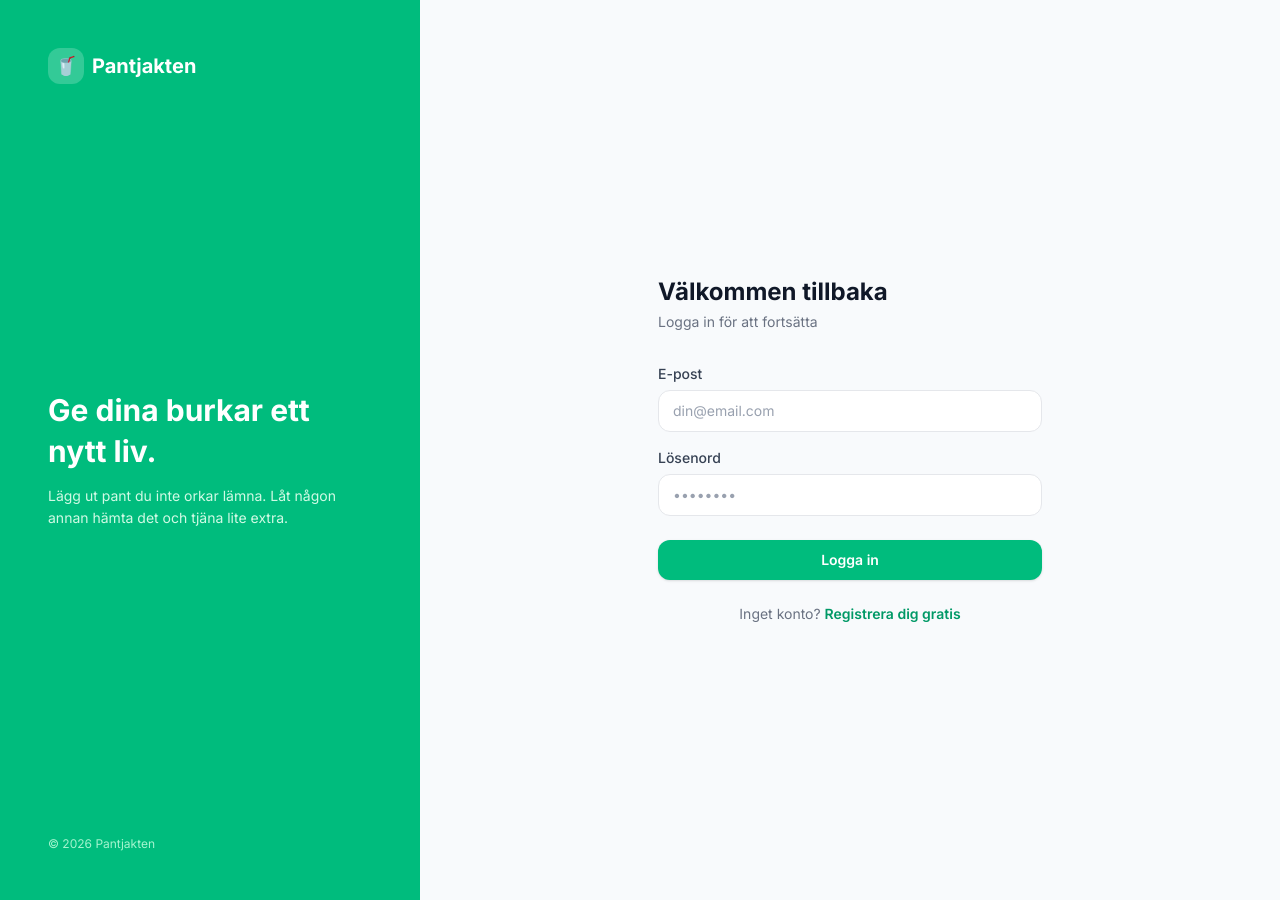
Test: LoginPage › shows a password validation error for short passwords
In the field with placeholder "din@email.com": (850, 411) [658, 390, 1042, 432], type "test@example.com"
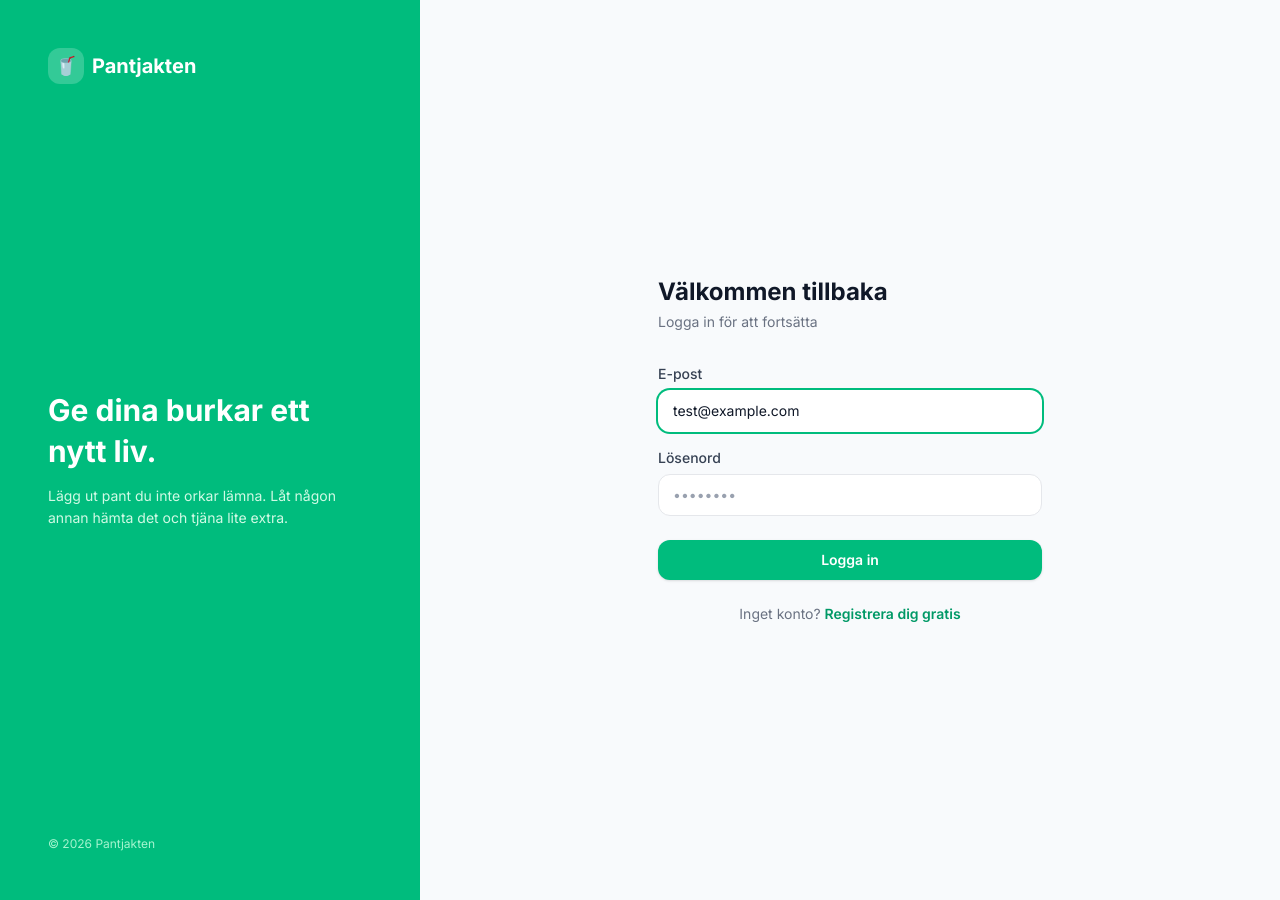
In the password field with placeholder "••••••••": (850, 495) [658, 474, 1042, 516], type "123"
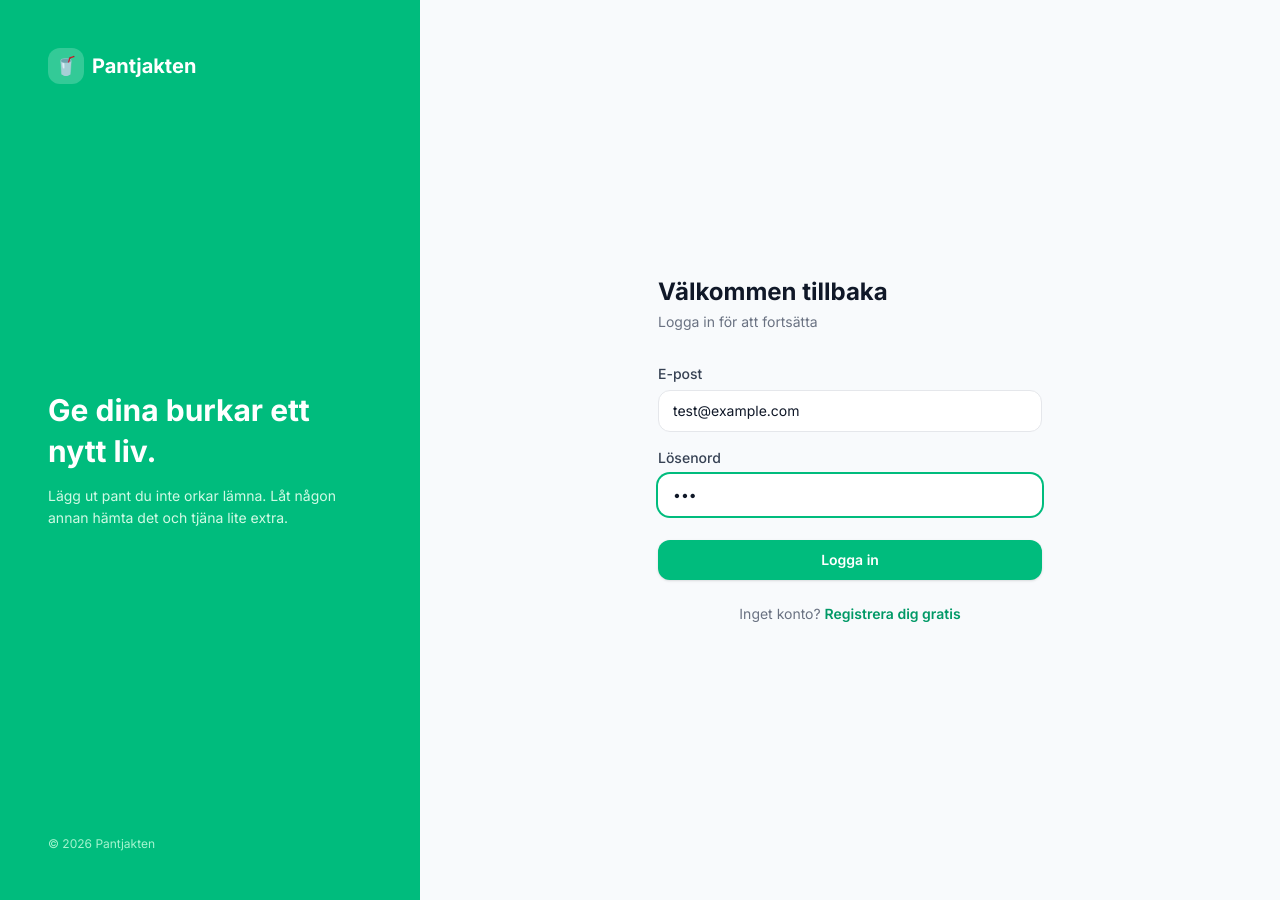
Click the button "Logga in": (850, 560) [658, 540, 1042, 580]
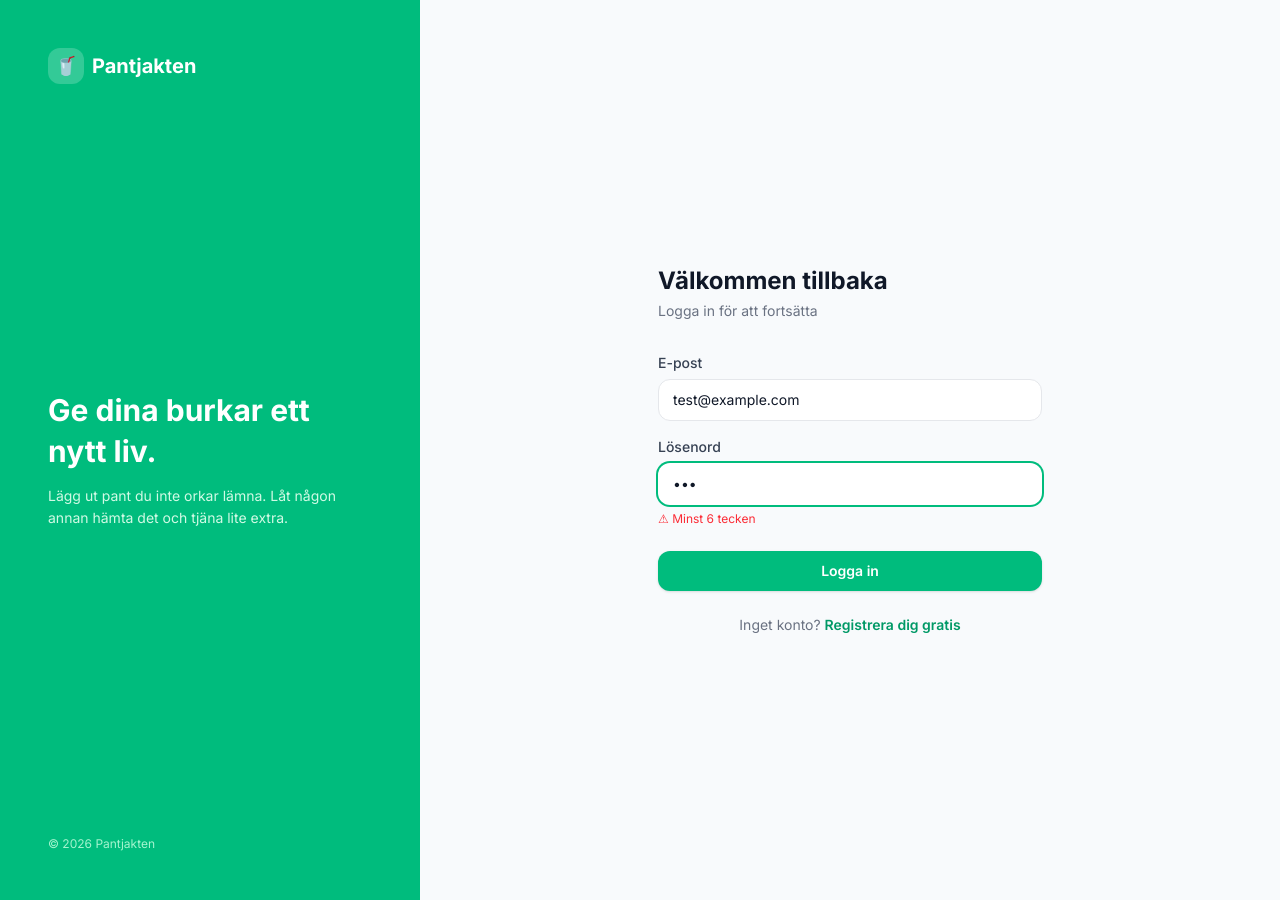
Expected: the text "⚠ Minst 6 tecken" is shown, [658, 511, 756, 526]
